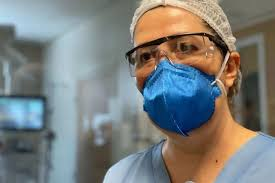with_mask_and_cap: (127, 1, 236, 138)
